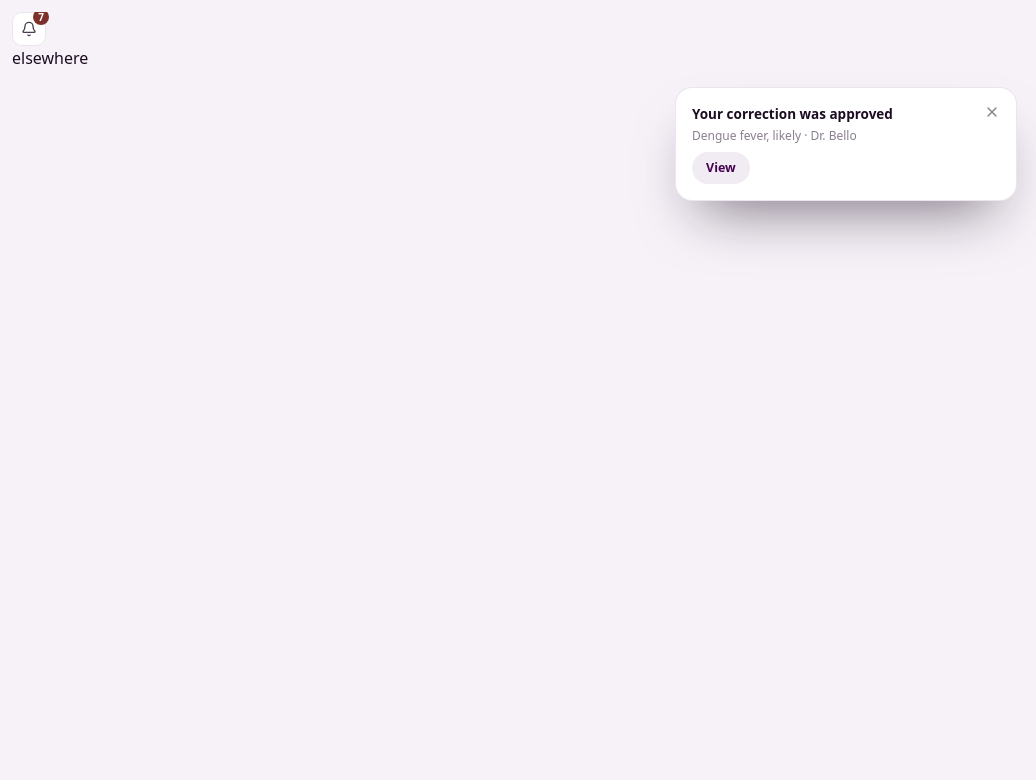
Test case: NotificationBell › lists the latest of both, and opening it clears only the decisions (R1)
This screenshot has width=1036, height=780.
What coordinates should you click on to do the following:
click the button named "Notifications, 7 unread"
I would click on:
 (29, 29)
Its box is 12,12 -> 46,46.
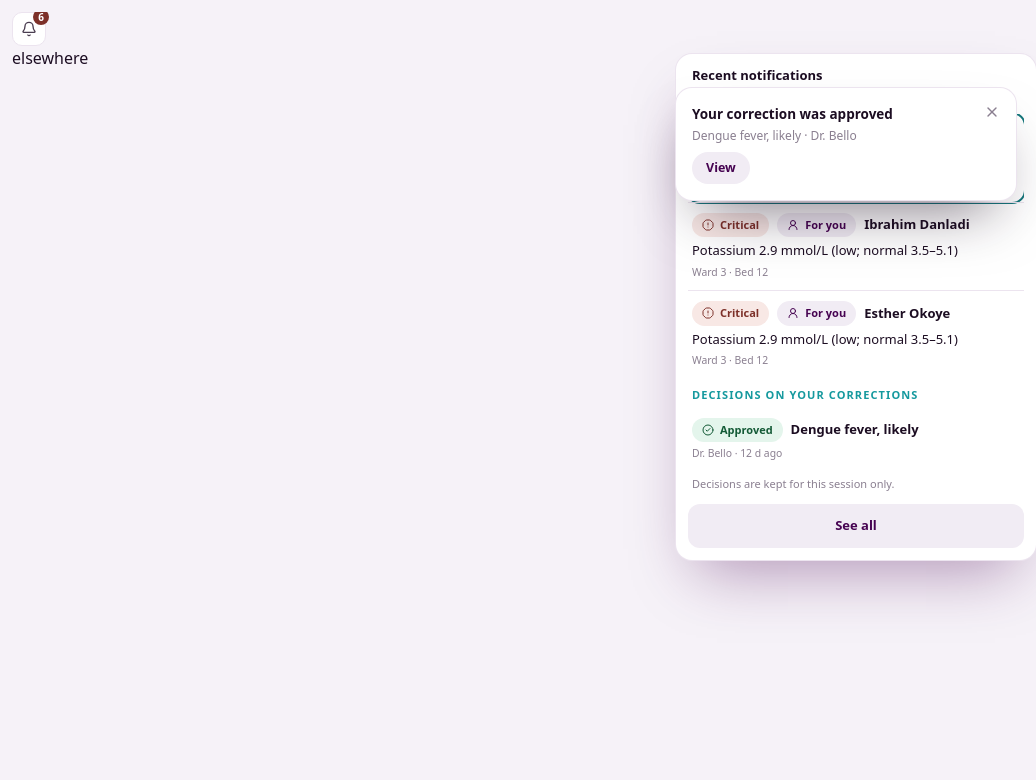
Expected: the text "Dengue fever, likely" is shown, 791,420 -> 918,440
Expected: the text "Approved" is shown, 692,418 -> 783,442
Expected: the button named "Notifications, 6 unread" is shown, 12,12 -> 46,46
